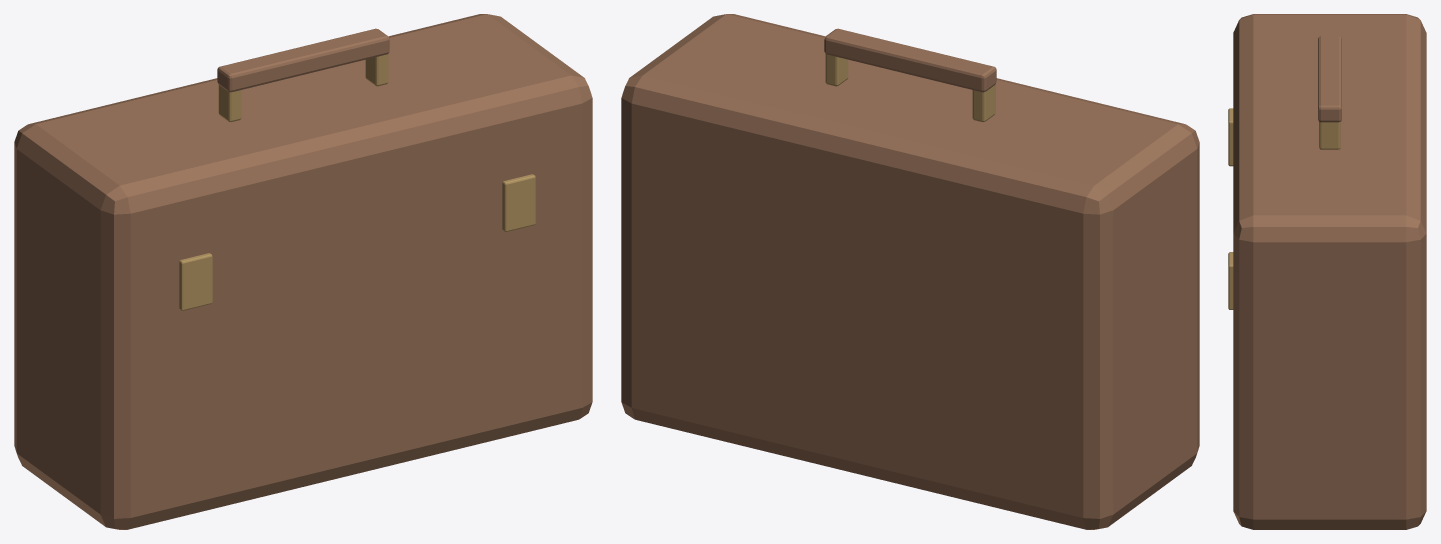
Rendered from koper.glb.
The picture shows the model from 3 angles, left to right: view 1: azimuth 30°, elevation 25°; view 2: azimuth 150°, elevation 25°; view 3: azimuth 270°, elevation 25°; orthographic projection. The views are drawn at different scales.
Parts seen in each view (by area): view 1: Badan.006, Pegangan.002, Pengait, Pengait.001, Kaki pegangan, Kaki pegangan.001; view 2: Badan.006, Pegangan.002, Kaki pegangan, Kaki pegangan.001; view 3: Badan.006, Pegangan.002, Kaki pegangan.001, Pengait, Pengait.001.
Part boxes in pixels (x1,y1,x2,y2): Badan.006: [14, 14, 592, 529]; Pegangan.002: [217, 28, 389, 92]; Pengait: [179, 253, 212, 310]; Pengait.001: [502, 174, 535, 231]; Kaki pegangan: [218, 85, 241, 122]; Kaki pegangan.001: [365, 54, 388, 86]; Badan.006: [621, 14, 1199, 529]; Pegangan.002: [824, 28, 996, 92]; Kaki pegangan: [972, 85, 995, 122]; Kaki pegangan.001: [825, 54, 848, 86]; Badan.006: [1233, 14, 1426, 529]; Pegangan.002: [1318, 36, 1341, 122]; Kaki pegangan.001: [1319, 122, 1340, 149]; Pengait: [1228, 108, 1233, 166]; Pengait.001: [1228, 252, 1233, 309].
Size of the model in its own units: 0.64 by 0.4905 by 0.246.
